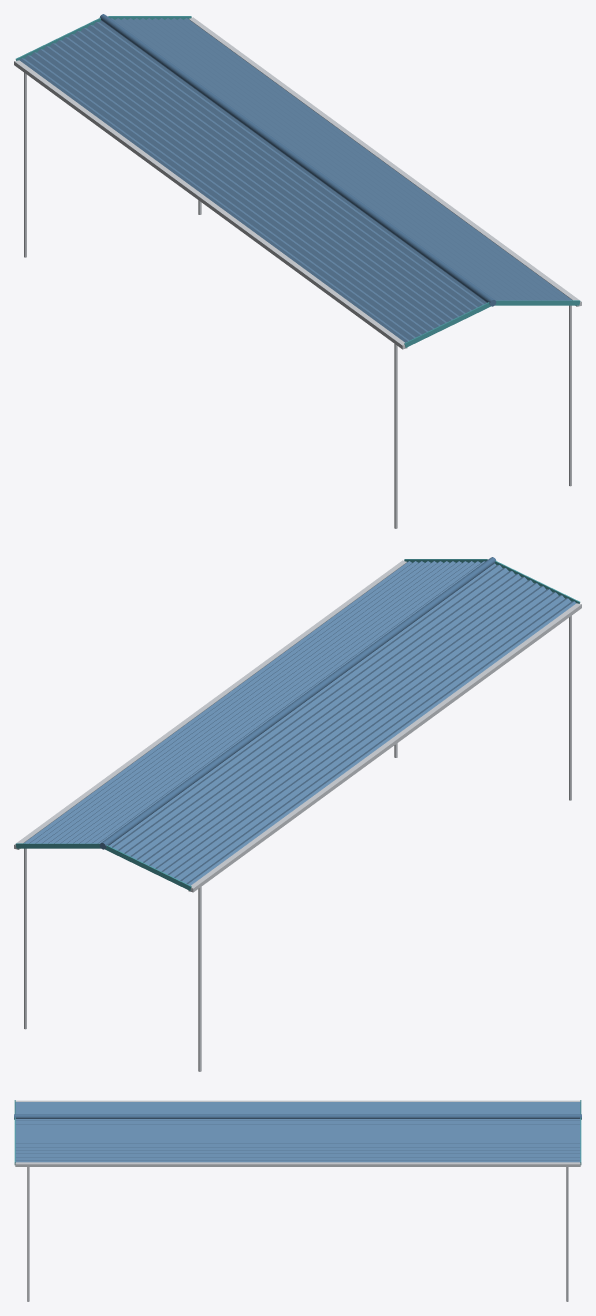
File: barracks_corrugated_gable_roof.glb
3 renders of one model, top to bottom at view 1: azimuth 30°, elevation 25°; view 2: azimuth 150°, elevation 25°; view 3: azimuth 270°, elevation 25°, orthographic. The views are drawn at different scales.
Parts seen in each view (by area): view 1: PitchMesh_-1, PitchMesh_1, Cube.004, Cylinder, Cube.005, Cylinder.001; view 2: PitchMesh_-1, PitchMesh_1, Cube.004, Cylinder, Cube.005, Cylinder.002; view 3: PitchMesh_1, PitchMesh_-1, Cylinder, Cube.005, Cube.004, Cylinder.003, Cylinder.004.
Part boxes in pixels (bbox=[...]): PitchMesh_-1: bbox=[19, 20, 486, 342]; PitchMesh_1: bbox=[111, 18, 571, 300]; Cube.004: bbox=[14, 60, 407, 349]; Cylinder: bbox=[99, 14, 496, 306]; Cube.005: bbox=[189, 17, 581, 306]; Cylinder.001: bbox=[394, 344, 397, 528]; PitchMesh_-1: bbox=[109, 563, 576, 885]; PitchMesh_1: bbox=[24, 561, 484, 843]; Cube.004: bbox=[188, 603, 581, 892]; Cylinder: bbox=[99, 557, 496, 849]; Cube.005: bbox=[14, 560, 406, 849]; Cylinder.002: bbox=[198, 887, 201, 1071]; PitchMesh_1: bbox=[15, 1119, 580, 1162]; PitchMesh_-1: bbox=[15, 1102, 580, 1114]; Cylinder: bbox=[14, 1114, 581, 1119]; Cube.005: bbox=[15, 1162, 580, 1166]; Cube.004: bbox=[15, 1100, 580, 1101]; Cylinder.003: bbox=[27, 1167, 29, 1301]; Cylinder.004: bbox=[566, 1167, 568, 1301].
Size of the model in its own units: 5.76 by 6.57 by 21.7.
